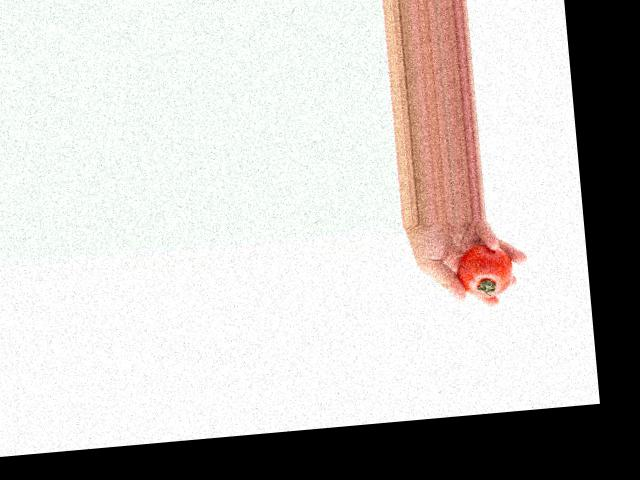tomato: (455, 242, 515, 299)
